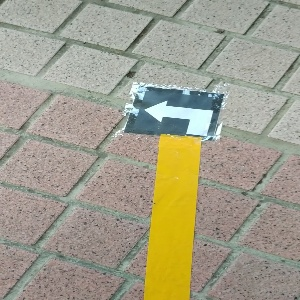left: (124, 86, 223, 138)
